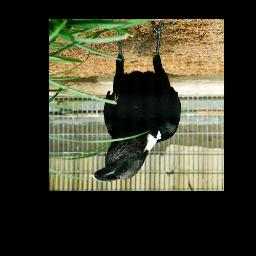Crow: (89, 20, 181, 183)
